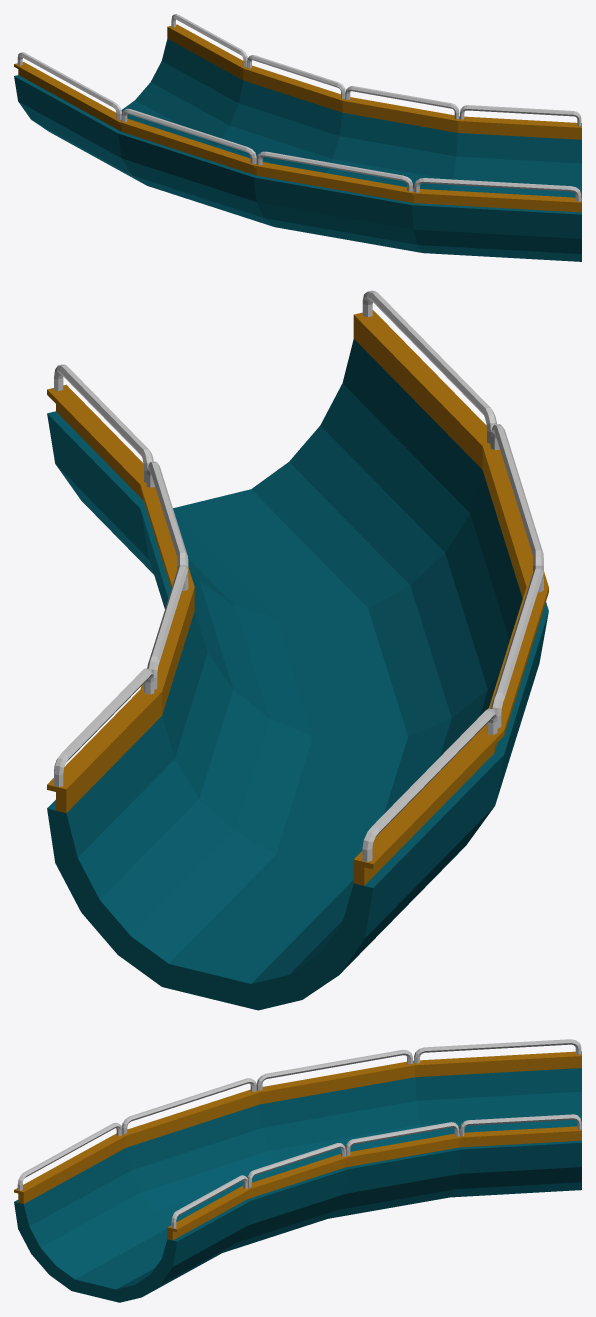
The model's file is halfpipe-curveLeft-60_m.FBX.
The picture shows the model from 3 angles, top to bottom: view 1: azimuth 30°, elevation 25°; view 2: azimuth 150°, elevation 25°; view 3: azimuth 270°, elevation 25°; orthographic projection. The views are drawn at different scales.
Visible parts, largest first — view 1: halfpipe-curveLeft-60_m, wall_r, wall_l; view 2: halfpipe-curveLeft-60_m, wall_r, wall_l; view 3: halfpipe-curveLeft-60_m, wall_r, wall_l.
Boxes of the visible parts, bbox=[...] form: halfpipe-curveLeft-60_m: bbox=[14, 39, 581, 261]; wall_r: bbox=[14, 52, 581, 212]; wall_l: bbox=[167, 14, 581, 139]; halfpipe-curveLeft-60_m: bbox=[47, 339, 548, 1010]; wall_r: bbox=[353, 290, 548, 885]; wall_l: bbox=[47, 364, 194, 813]; halfpipe-curveLeft-60_m: bbox=[14, 1068, 581, 1302]; wall_r: bbox=[14, 1039, 581, 1203]; wall_l: bbox=[167, 1114, 581, 1240].
Size of what is drawn, in the model's own units: 287 by 386 by 75.73.
